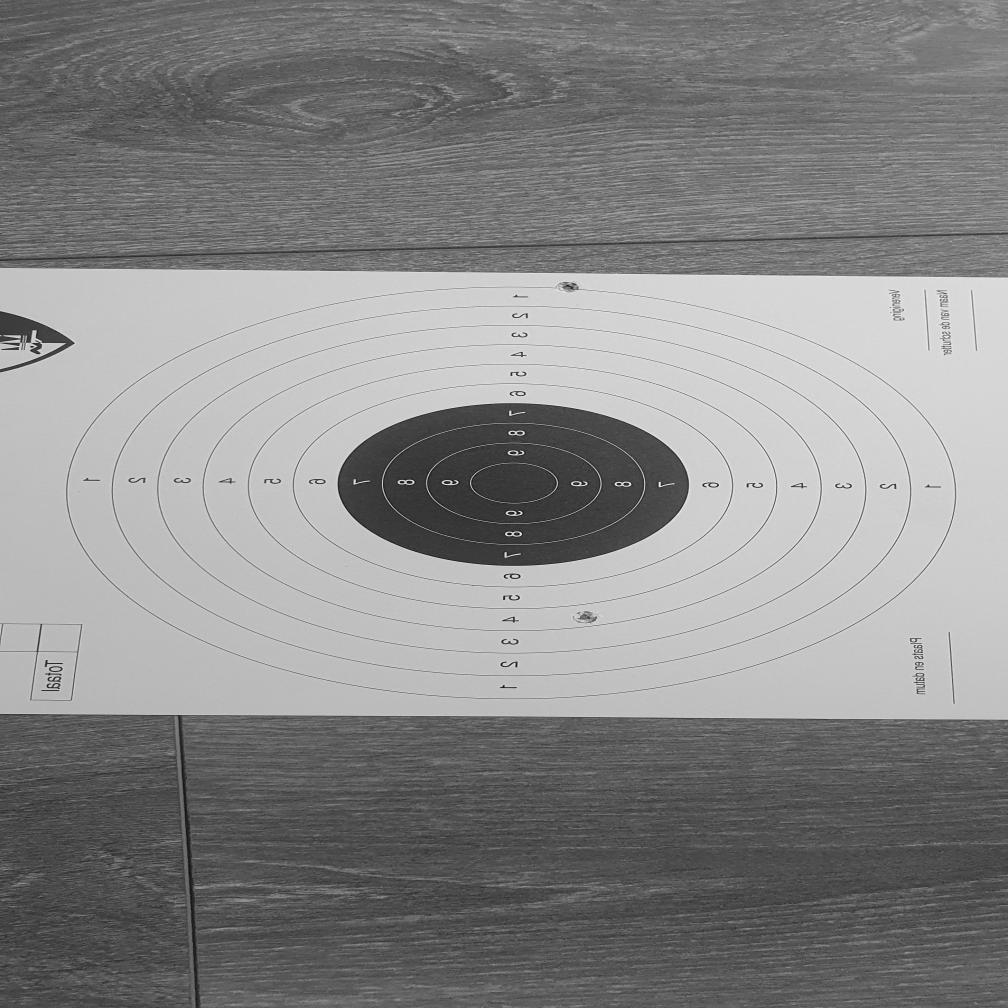1: (557, 282, 580, 293)
4: (568, 609, 606, 627)
Target: (60, 286, 958, 702)
black_contour: (336, 403, 687, 566)
